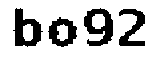2: (118, 7, 149, 51)
9: (83, 5, 116, 50)
b: (11, 4, 42, 52)
o: (47, 14, 82, 52)
